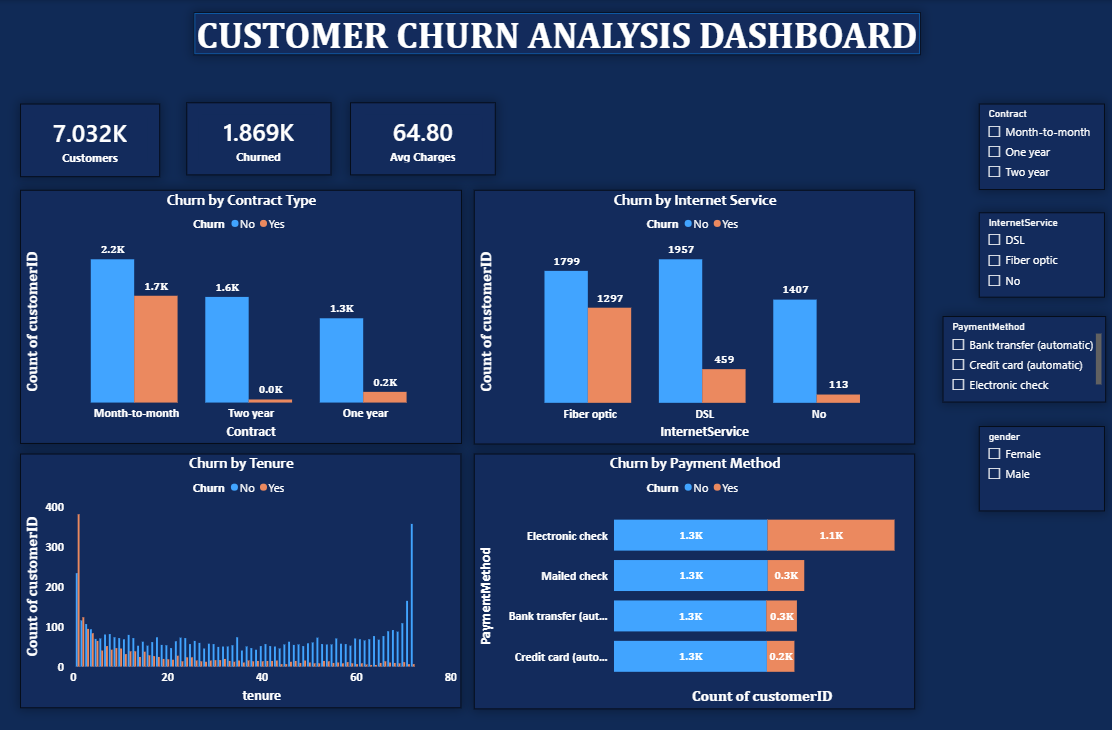

The dashboard page shown, as its layout file describes it:
{"tool":"powerbi","page":{"name":"Executive Overview","canvas":[1600,1050],"ordinal":0},"visuals":[{"type":"cardVisual","fields":{"Data":["Count(customer_churn_cleaned.customerID)"]},"box":[30.4,149.4,200,105],"z":0},{"type":"cardVisual","fields":{"Data":["Count(customer_churn_cleaned.customerID)"]},"box":[269.3,147.2,207.1,104.3],"z":1000},{"type":"cardVisual","fields":{"Data":["Avg(customer_churn_cleaned.MonthlyCharges)"]},"box":[503.1,147.5,208.4,104.2],"z":2000},{"type":"clusteredColumnChart","title":"Churn by Contract Type","fields":{"Category":["customer_churn_cleaned.Contract"],"Y":["Count(customer_churn_cleaned.customerID)"],"Series":["customer_churn_cleaned.Churn"]},"box":[30,271.5,631.9,363.5],"z":3000},{"type":"clusteredColumnChart","title":"Churn by Internet Service","fields":{"Category":["customer_churn_cleaned.InternetService"],"Y":["Count(customer_churn_cleaned.customerID)"],"Series":["customer_churn_cleaned.Churn"]},"box":[680.4,271.9,631.3,363.9],"z":4000},{"type":"barChart","title":"Churn by Payment Method","fields":{"Category":["customer_churn_cleaned.PaymentMethod"],"Y":["Count(customer_churn_cleaned.customerID)"],"Series":["customer_churn_cleaned.Churn"]},"box":[680.4,649.8,631.3,365.4],"z":5000},{"type":"slicer","fields":{"Values":["customer_churn_cleaned.Contract"]},"box":[1403.4,149.1,180.4,122.8],"z":6000},{"type":"slicer","fields":{"Values":["customer_churn_cleaned.InternetService"]},"box":[1403.4,304.6,180.4,121.3],"z":7000},{"type":"slicer","fields":{"Values":["customer_churn_cleaned.PaymentMethod"]},"box":[1350.6,452.3,233.2,122.8],"z":8000},{"type":"slicer","fields":{"Values":["customer_churn_cleaned.gender"]},"box":[1403.4,610.9,180.4,121.3],"z":9000},{"type":"clusteredColumnChart","title":"Churn by Tenure","fields":{"Category":["customer_churn_cleaned.tenure"],"Y":["CountNonNull(customer_churn_cleaned.customerID)"],"Series":["customer_churn_cleaned.Churn"]},"box":[30.4,649.8,631.3,363.9],"z":10000},{"type":"shape","box":[280,17.9,1040,60.8],"z":11000}]}

Visuals, with their boxes in screenshot pixels (x1, y1, x2, y2), scaled from the page's 1600x1050 canvas onto the 1112x730 screenshot:
cardVisual - Count(customer_churn_cleaned.customerID): left=21, top=104, right=160, bottom=177
cardVisual - Count(customer_churn_cleaned.customerID): left=187, top=102, right=331, bottom=175
cardVisual - Avg(customer_churn_cleaned.MonthlyCharges): left=350, top=103, right=494, bottom=175
"Churn by Contract Type" clusteredColumnChart: left=21, top=189, right=460, bottom=441
"Churn by Internet Service" clusteredColumnChart: left=473, top=189, right=912, bottom=442
"Churn by Payment Method" barChart: left=473, top=452, right=912, bottom=706
slicer - customer_churn_cleaned.Contract: left=975, top=104, right=1101, bottom=189
slicer - customer_churn_cleaned.InternetService: left=975, top=212, right=1101, bottom=296
slicer - customer_churn_cleaned.PaymentMethod: left=939, top=314, right=1101, bottom=400
slicer - customer_churn_cleaned.gender: left=975, top=425, right=1101, bottom=509
"Churn by Tenure" clusteredColumnChart: left=21, top=452, right=460, bottom=705
shape: left=195, top=12, right=917, bottom=55
